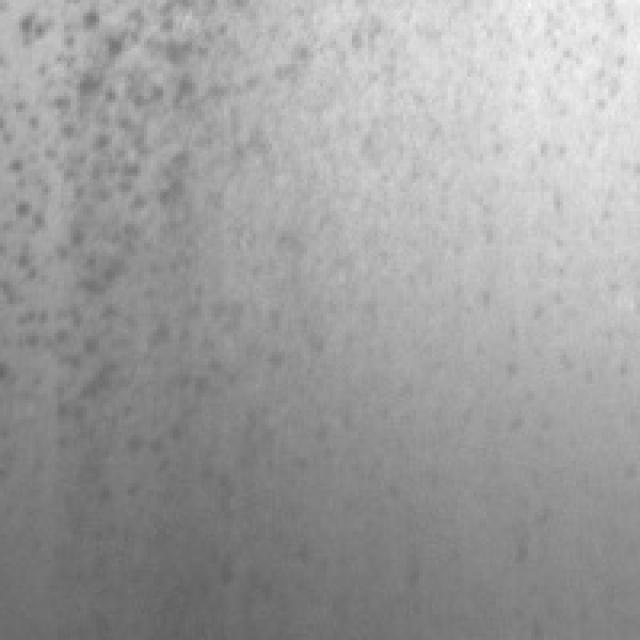pitted_surface: (0, 0, 326, 429), (371, 0, 621, 170)
